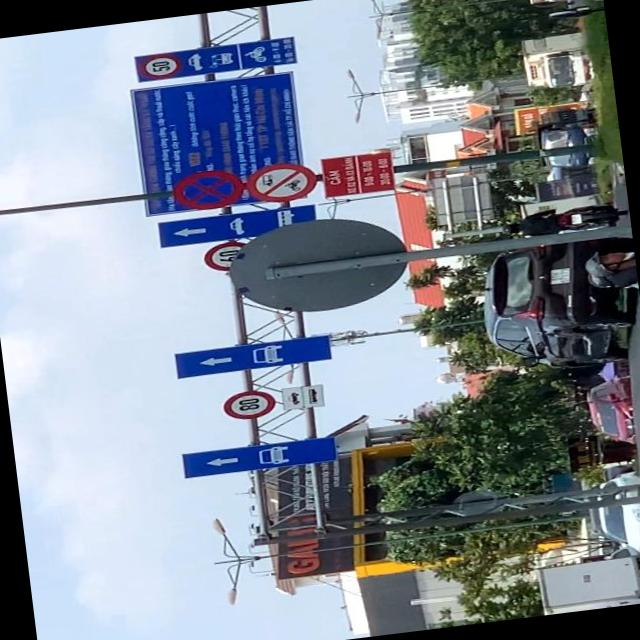P-104: (245, 160, 315, 204)
P-130: (170, 166, 247, 212)
